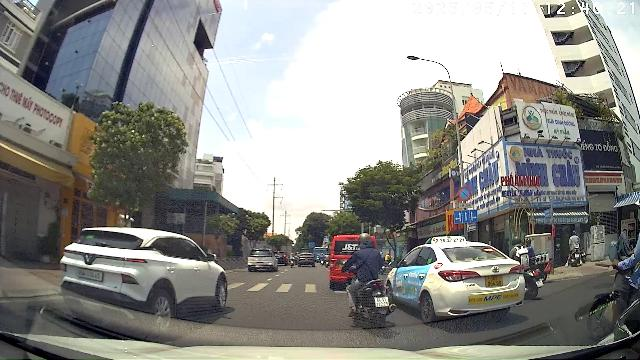131a-cam-do-xe: (457, 186, 471, 202)
